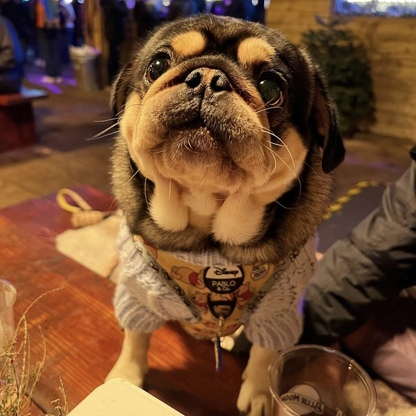Pug: (102, 9, 352, 415)
